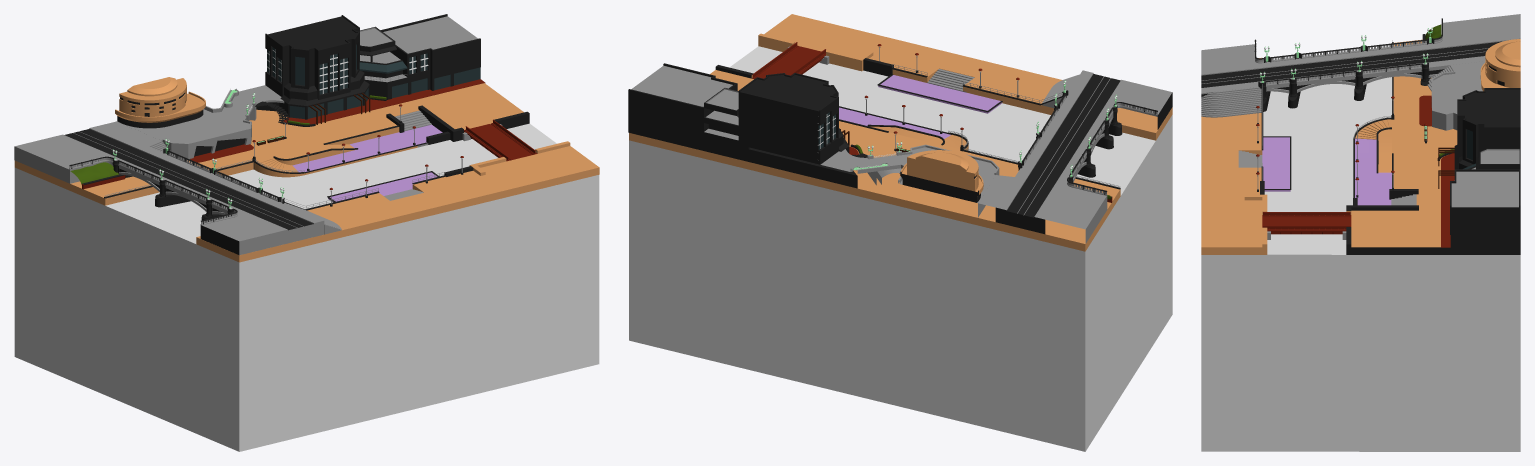
The model's file is Map_Mesh.FBX.
3 views of the same model, side by side, from view 1: azimuth 30°, elevation 25°; view 2: azimuth 150°, elevation 25°; view 3: azimuth 270°, elevation 25° (orthographic). The views are drawn at different scales.
Parts seen in each view (by area): view 1: Water, Bridge, GroundSouthbank, GroundNorthBank, SouthgateUpper, SouthgateR, Dock (×2), Raised, HamerHall, Southgate, TableBridge, HamerHall001 (+6 smaller); view 2: Water, Bridge, GroundNorthBank, GroundSouthbank, SouthgateUpper, SouthgateR, Dock (×2), Raised, HamerHall, Southgate, TableBridge, HamerHall001 (+4 smaller); view 3: Water, GroundSouthbank, Bridge, GroundNorthBank, SouthgateR, Dock (×2), SouthgateUpper, Raised, RaisedStair (×3), TableBridge, HamerHall, Arche (+9 smaller).
Part boxes in pixels (x1=…): Water: x1=14, y1=123, x2=599, y2=451; Bridge: x1=14, y1=125, x2=324, y2=255; GroundSouthbank: x1=14, y1=83, x2=529, y2=205; GroundNorthBank: x1=196, y1=141, x2=599, y2=262; SouthgateUpper: x1=265, y1=15, x2=364, y2=100; SouthgateR: x1=364, y1=14, x2=480, y2=99; Dock (×2): x1=254, y1=124, x2=442, y2=202; Raised: x1=116, y1=85, x2=284, y2=159; HamerHall: x1=119, y1=77, x2=186, y2=116; Southgate: x1=256, y1=80, x2=369, y2=119; TableBridge: x1=464, y1=119, x2=537, y2=161; HamerHall001: x1=115, y1=91, x2=205, y2=128; Water: x1=629, y1=46, x2=1172, y2=451; Bridge: x1=995, y1=70, x2=1172, y2=243; GroundNorthBank: x1=758, y1=14, x2=1172, y2=140; GroundSouthbank: x1=629, y1=65, x2=1120, y2=251; SouthgateUpper: x1=738, y1=73, x2=843, y2=164; SouthgateR: x1=628, y1=63, x2=750, y2=161; Dock (×2): x1=839, y1=74, x2=1002, y2=150; Raised: x1=820, y1=144, x2=999, y2=217; HamerHall: x1=907, y1=150, x2=978, y2=191; Southgate: x1=748, y1=138, x2=857, y2=188; TableBridge: x1=752, y1=42, x2=825, y2=78; HamerHall001: x1=900, y1=163, x2=983, y2=202; Water: x1=1201, y1=77, x2=1520, y2=451; GroundSouthbank: x1=1346, y1=39, x2=1520, y2=254; Bridge: x1=1201, y1=14, x2=1520, y2=97; GroundNorthBank: x1=1201, y1=57, x2=1267, y2=254; SouthgateR: x1=1450, y1=169, x2=1520, y2=247; Dock (×2): x1=1262, y1=119, x2=1391, y2=205; SouthgateUpper: x1=1457, y1=88, x2=1520, y2=169; Raised: x1=1431, y1=70, x2=1482, y2=130; RaisedStair (×3): x1=1201, y1=61, x2=1485, y2=117; TableBridge: x1=1262, y1=212, x2=1351, y2=234; HamerHall: x1=1485, y1=39, x2=1520, y2=87; Arche: x1=1266, y1=66, x2=1447, y2=93.
Bounding box in the file's own units: 13429 × 8262 × 7767.
